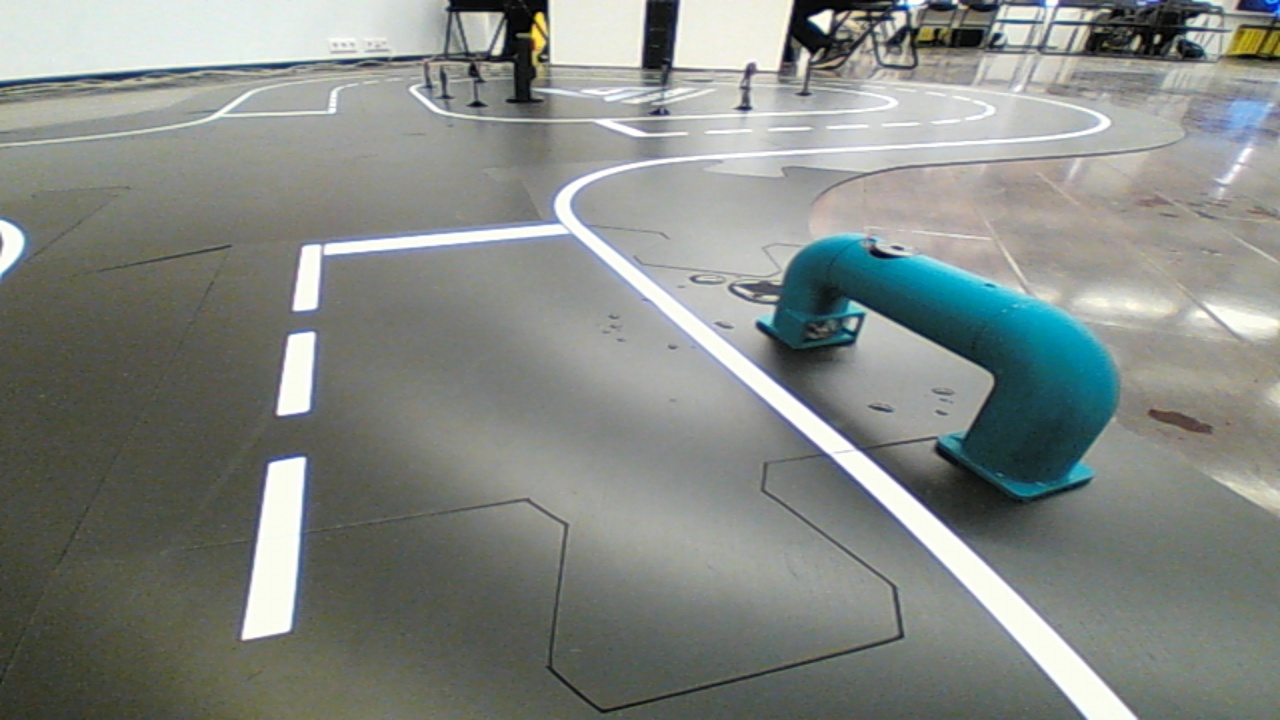Pedestrian crossing: (765, 215, 1131, 507)
